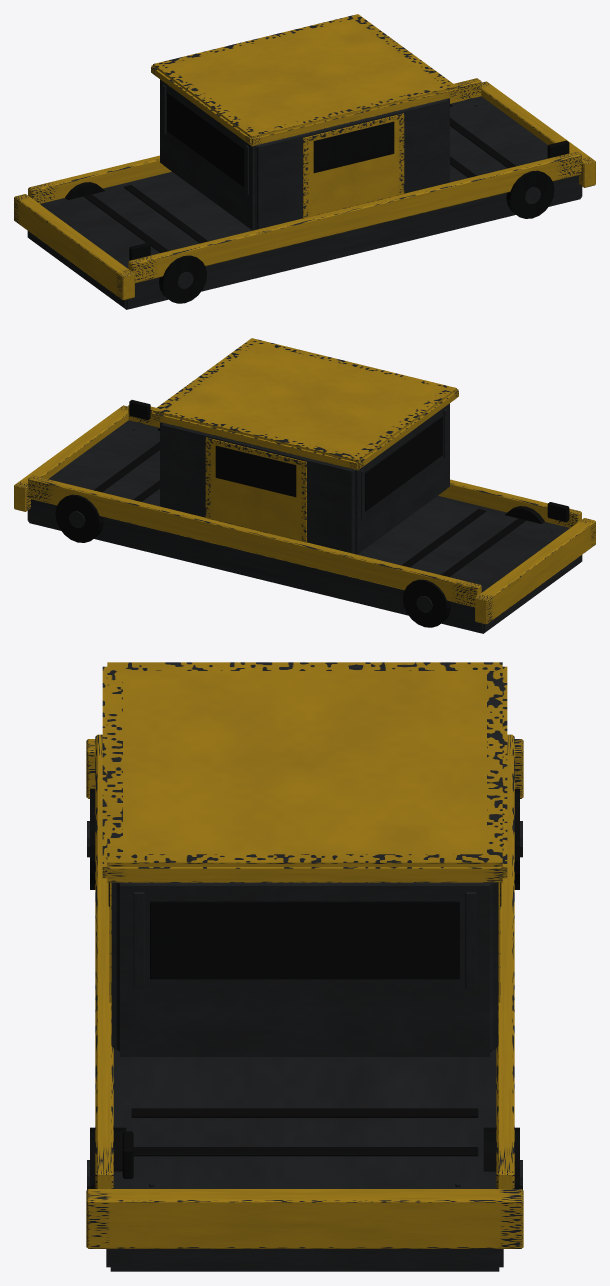
Rendered from RailTram.fbx.
3 renders of one model, top to bottom at view 1: azimuth 30°, elevation 25°; view 2: azimuth 150°, elevation 25°; view 3: azimuth 270°, elevation 25°, orthographic. The views are drawn at different scales.
Visible parts, largest first — view 1: RailTram.001; view 2: RailTram.001; view 3: RailTram.001.
Part boxes in pixels (bbox=[...]): RailTram.001: bbox=[14, 14, 595, 309]; RailTram.001: bbox=[14, 338, 595, 633]; RailTram.001: bbox=[86, 662, 523, 1271].
Size of the model in its own units: 6 by 1.77 by 2.4.
